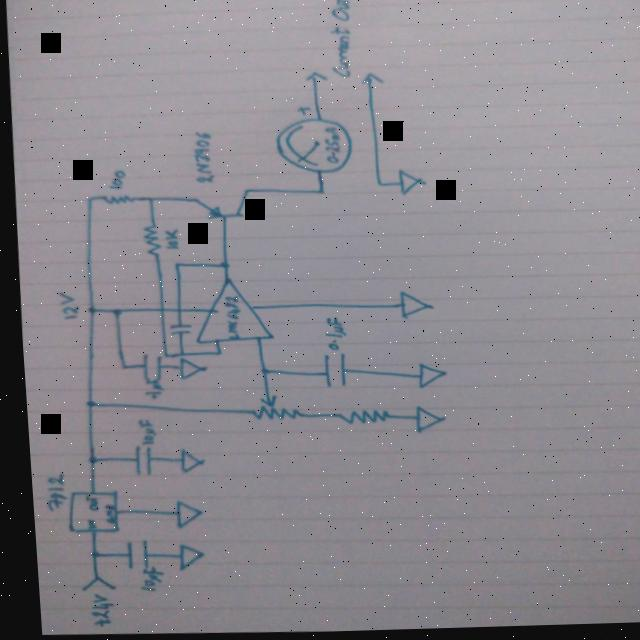capacitor: (313, 353, 348, 390), (113, 539, 144, 570), (123, 445, 150, 478), (133, 354, 159, 380), (163, 321, 187, 338)
crossover: (152, 305, 162, 314), (168, 306, 178, 314)
ground: (392, 290, 430, 322), (409, 362, 443, 392), (406, 406, 440, 436), (166, 499, 197, 530), (168, 542, 199, 572), (393, 170, 422, 197), (171, 447, 199, 474), (172, 358, 203, 380)
junction: (251, 365, 266, 377), (212, 261, 229, 271), (79, 549, 95, 559), (80, 302, 94, 313), (77, 399, 92, 409), (105, 307, 120, 317), (78, 454, 92, 464), (81, 193, 91, 203), (371, 181, 382, 190), (141, 196, 152, 204), (208, 348, 217, 357), (313, 189, 323, 197), (167, 261, 177, 269), (113, 362, 123, 370), (157, 352, 165, 360), (171, 351, 180, 357)
resistor: (243, 395, 298, 424), (330, 408, 385, 428), (136, 224, 159, 258), (97, 190, 132, 206)
terminal: (71, 574, 110, 594), (357, 73, 384, 88), (302, 73, 326, 85)
text: (325, 0, 357, 81), (187, 130, 213, 185), (35, 470, 62, 512), (316, 315, 345, 353), (78, 591, 107, 628), (218, 293, 237, 340), (50, 289, 76, 321), (130, 566, 158, 593), (320, 128, 340, 165), (131, 418, 152, 445), (136, 378, 160, 401), (102, 168, 126, 190), (159, 227, 179, 251), (96, 503, 108, 524), (77, 495, 91, 510), (79, 517, 89, 528)
transistor: (189, 186, 250, 223)
